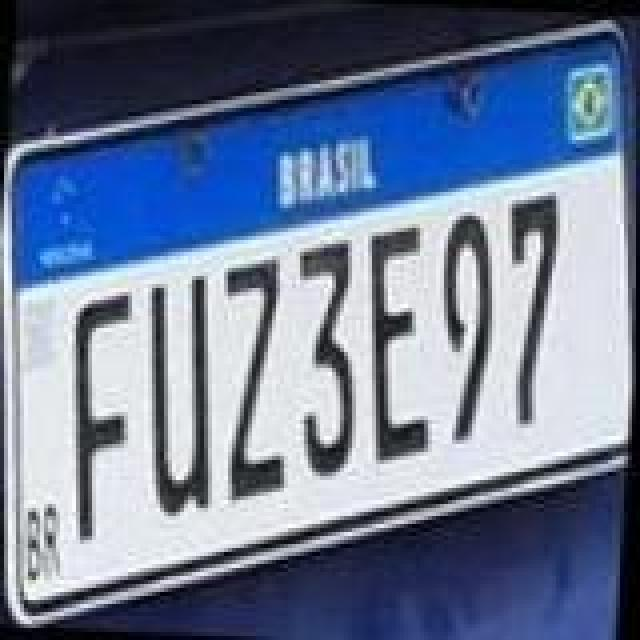3: (284, 238, 372, 482)
7: (490, 188, 566, 428)
9: (430, 212, 506, 444)
E: (354, 222, 446, 466)
F: (60, 282, 140, 542)
U: (132, 268, 228, 524)
Z: (208, 252, 304, 508)
